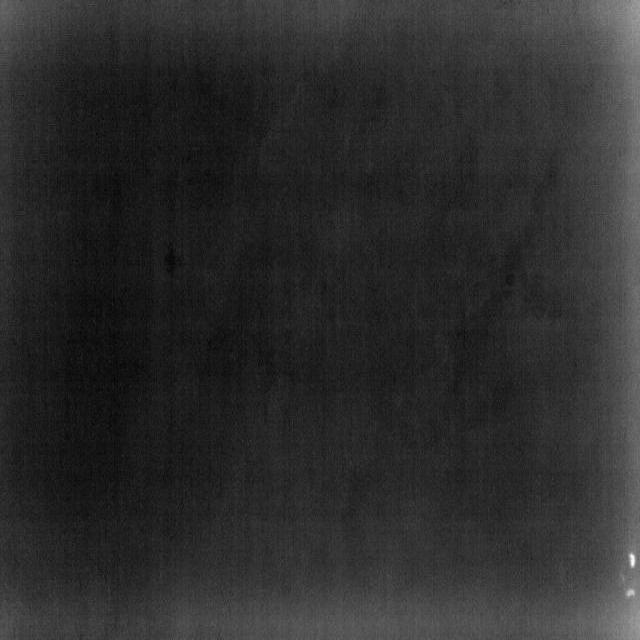deer: (628, 552, 636, 569), (624, 588, 635, 599)
